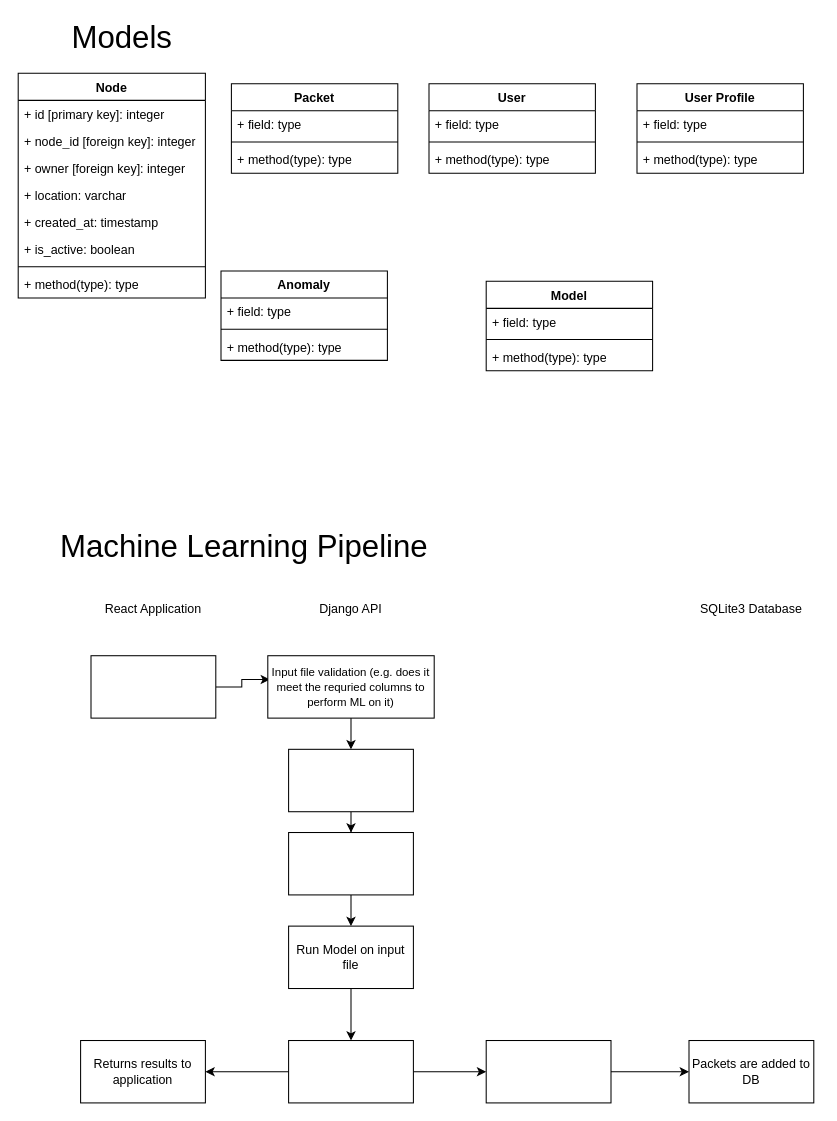
Image size: 837x1121. Some labels were removed from this diagram. The shapes that lost their labels are listed below. From the top down, each one's centre as x and y in pixels, then its label:
At point 153,686: "Sends user's file alongside model choice".
At point 350,780: "Preprocess the data (e.g. Scale it, drop missing columns/duplicates".
At point 350,863: "Load training data".
At point 350,1071: "Get Results (e.g. accuracy, precision, f1_score)".
At point 548,1071: "Packets that are anomalous are marked".
